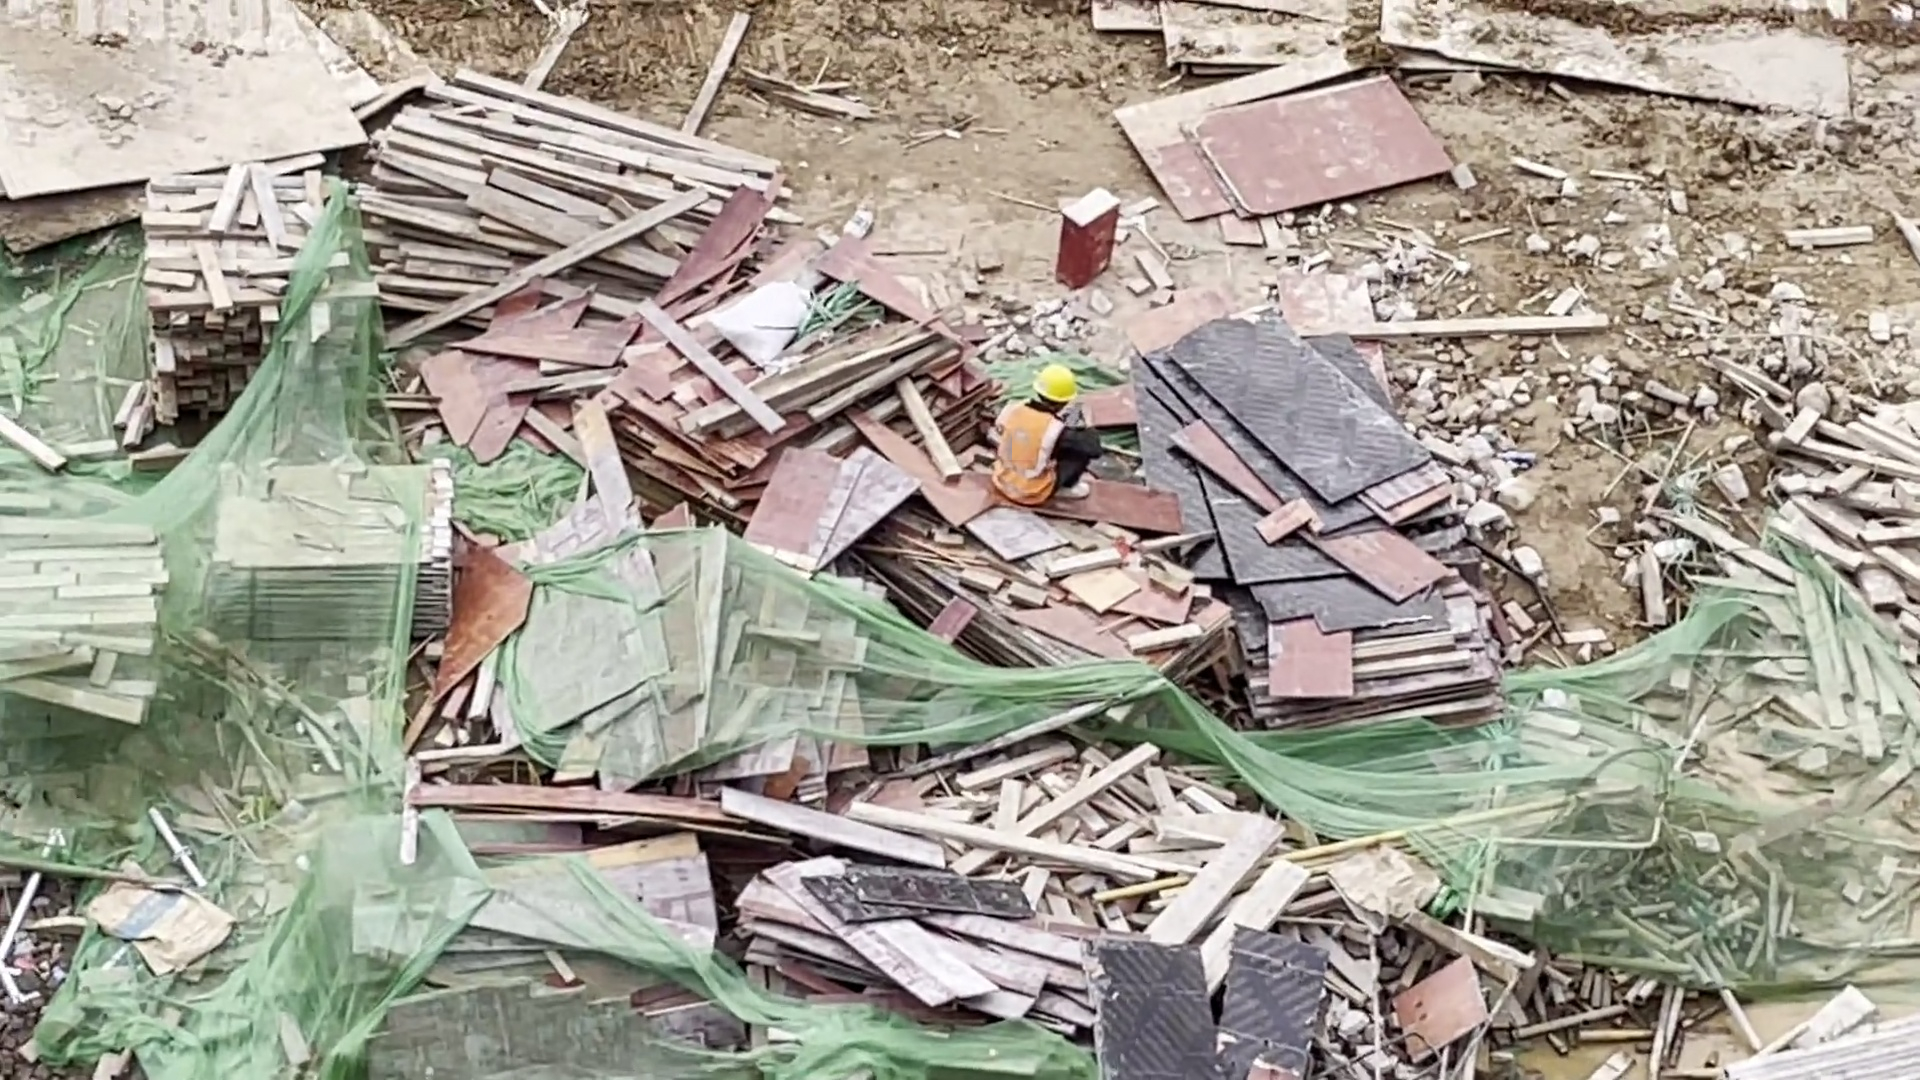board: (1147, 330, 1460, 744), (207, 465, 463, 636)
helmet: (1034, 363, 1083, 405)
person: (989, 364, 1098, 509)
vest: (993, 407, 1060, 503)
wood: (144, 174, 354, 431)
